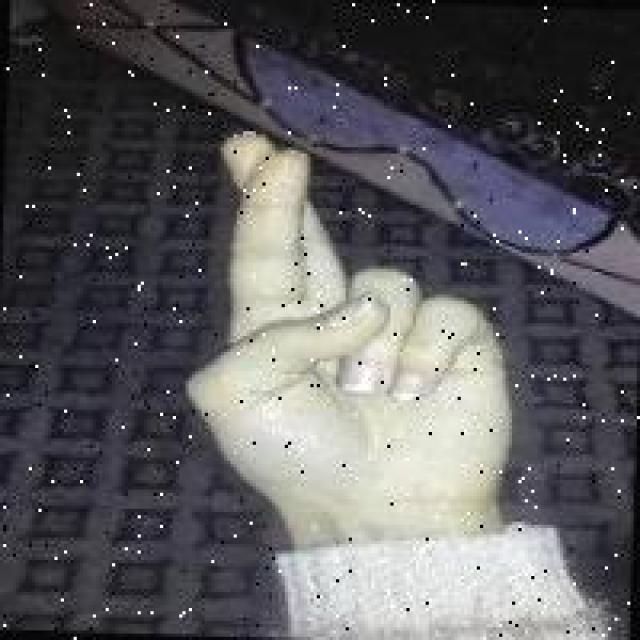R: (178, 120, 532, 549)
